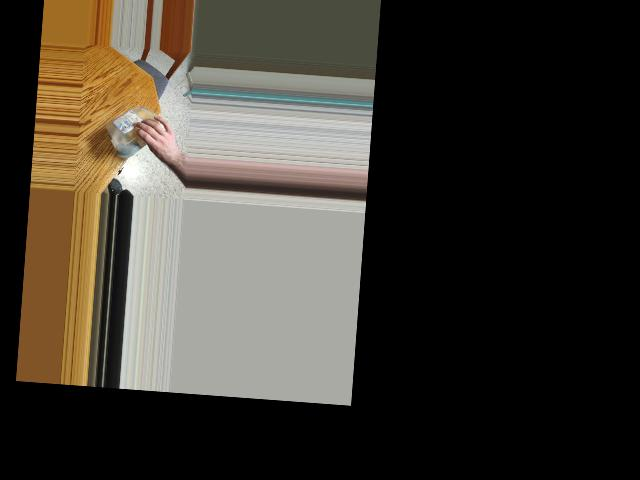cheese: (103, 101, 172, 158)
